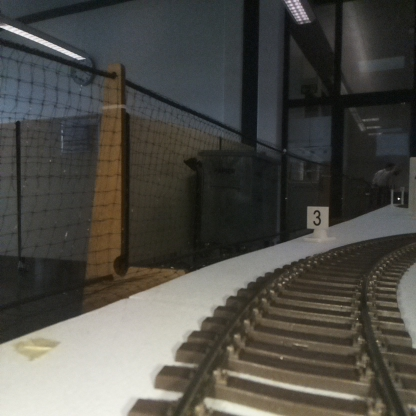white-stop-3: (307, 206, 329, 239)
